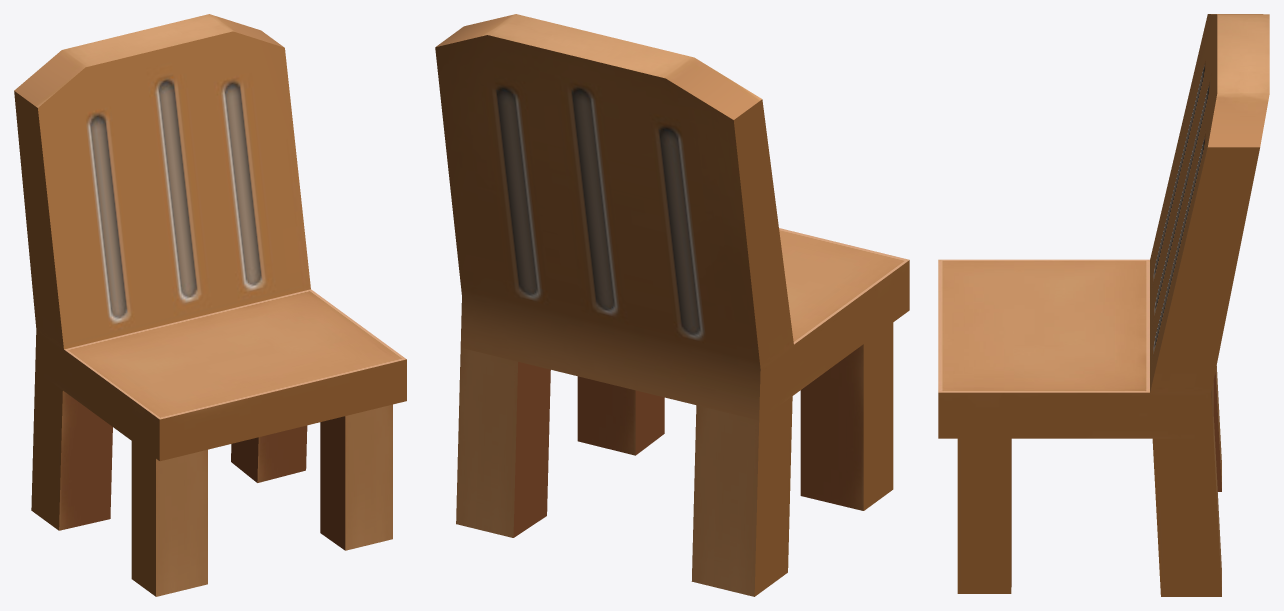
File: chair1.fbx
The picture shows the model from 3 angles, left to right: view 1: azimuth 30°, elevation 25°; view 2: azimuth 150°, elevation 25°; view 3: azimuth 270°, elevation 25°; orthographic projection. The views are drawn at different scales.
Visible parts, largest first — view 1: chair1; view 2: chair1; view 3: chair1.
Part boxes in pixels (x1,y1,x2,y2): chair1: (14,14,406,596); chair1: (435,14,909,596); chair1: (938,14,1269,596).
Bounding box in the file's own units: 3.38 × 5.66 × 3.55.
